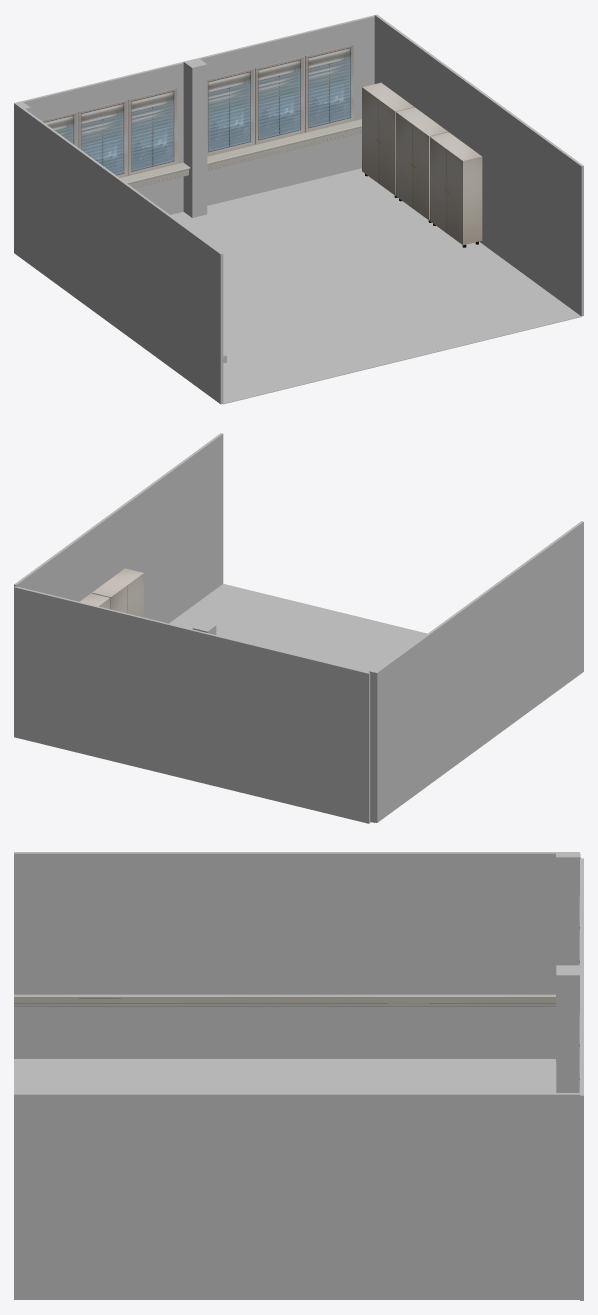
Rendered from world (copy).dae.
3 views of the same model, one above another, from view 1: azimuth 30°, elevation 25°; view 2: azimuth 150°, elevation 25°; view 3: azimuth 270°, elevation 25° (orthographic). The views are drawn at different scales.
Visible parts, largest first — view 1: ground, Wall_02, Wall_01, Wall_01_001, Cube_003, window_03_001, Pillar_01, window_02, window_03, window_01, Cube_002, Cube_001 (+4 smaller); view 2: Wall_01_001, Wall_02, Wall_01, ground, Cube_003, Pillar_02; view 3: Wall_01, Wall_02, ground, pannel_01, Pillar_01, Pillar_02, Wall_01_001.
Boxes of the visible parts, bbox=[...] form: ground: bbox=[170, 168, 581, 404]; Wall_02: bbox=[14, 102, 223, 404]; Wall_01: bbox=[374, 14, 583, 316]; Wall_01_001: bbox=[22, 15, 374, 214]; Cube_003: bbox=[430, 132, 482, 245]; window_03_001: bbox=[128, 88, 177, 175]; Pillar_01: bbox=[183, 58, 207, 217]; window_02: bbox=[255, 56, 303, 144]; window_03: bbox=[305, 44, 353, 132]; window_01: bbox=[207, 68, 253, 155]; Cube_002: bbox=[396, 107, 447, 220]; Cube_001: bbox=[362, 82, 414, 195]; Wall_01_001: bbox=[14, 586, 370, 823]; Wall_02: bbox=[374, 521, 583, 822]; Wall_01: bbox=[14, 433, 223, 623]; ground: bbox=[169, 584, 427, 822]; Cube_003: bbox=[92, 568, 143, 617]; Pillar_02: bbox=[369, 665, 382, 822]; Wall_01: bbox=[14, 1093, 579, 1299]; Wall_02: bbox=[14, 852, 579, 1058]; ground: bbox=[14, 1059, 556, 1092]; pannel_01: bbox=[14, 994, 555, 1006]; Pillar_01: bbox=[556, 965, 579, 1092]; Pillar_02: bbox=[556, 853, 580, 1062]; Wall_01_001: bbox=[580, 858, 583, 1300].
Bounding box in the file's own units: 7.51 × 7.46 × 2.99.
